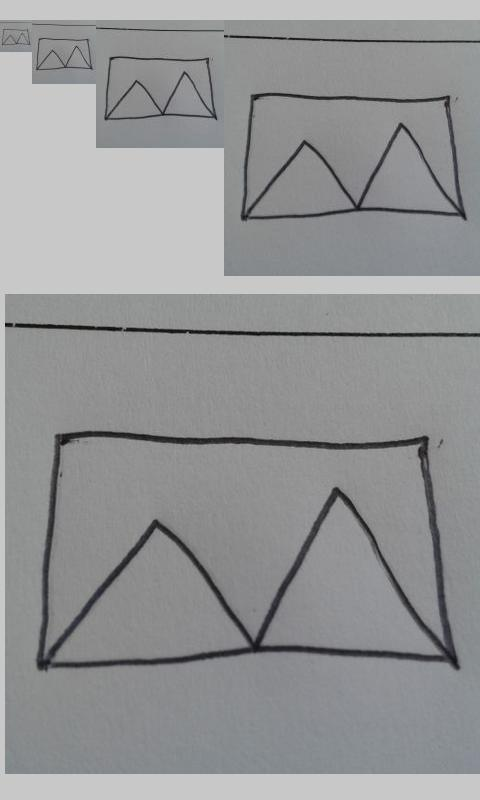image_view: (35, 430, 453, 670), (239, 90, 465, 224), (104, 55, 217, 121), (35, 37, 93, 71), (1, 28, 30, 46)
